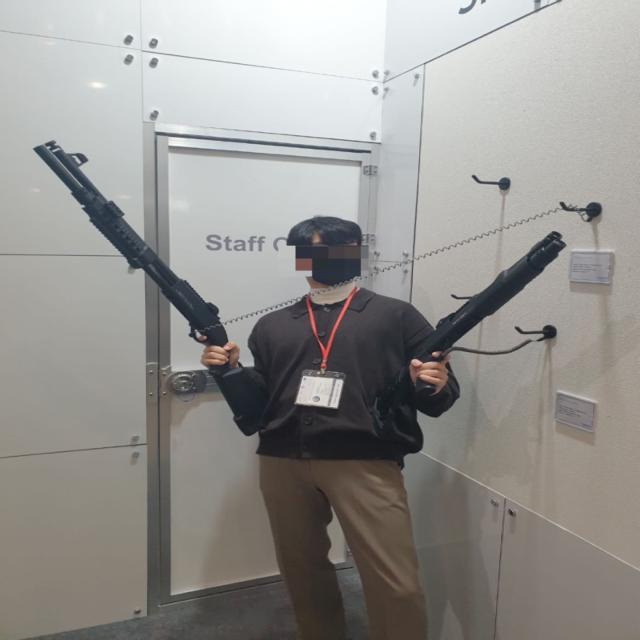cardigan: (208, 286, 458, 467)
slacks: (252, 451, 429, 640)
